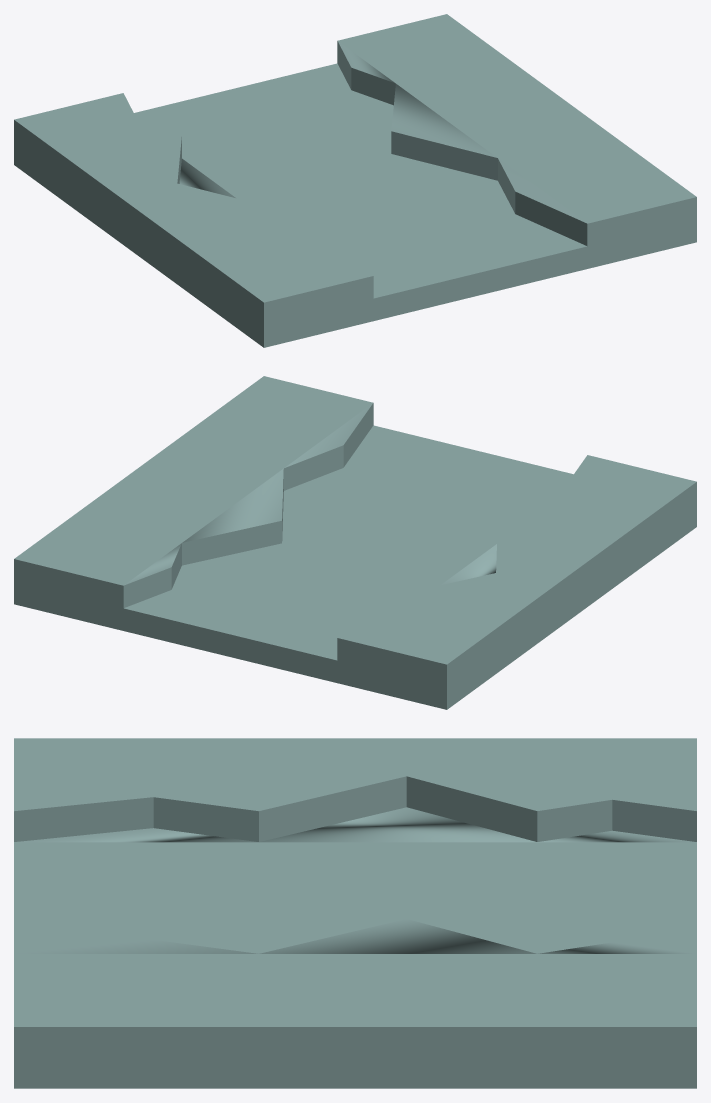
File: naturePack_002.fbx
3 renders of one model, top to bottom at view 1: azimuth 30°, elevation 25°; view 2: azimuth 150°, elevation 25°; view 3: azimuth 270°, elevation 25°, orthographic. The views are drawn at different scales.
Parts seen in each view (by area): view 1: naturePack_002; view 2: naturePack_002; view 3: naturePack_002.
Boxes of the visible parts, box(x1,y1,x2,y2) form: naturePack_002: box(14, 14, 696, 347); naturePack_002: box(14, 376, 696, 709); naturePack_002: box(14, 738, 696, 1088).
Bounding box in the file's own units: 300 × 30 × 300.
